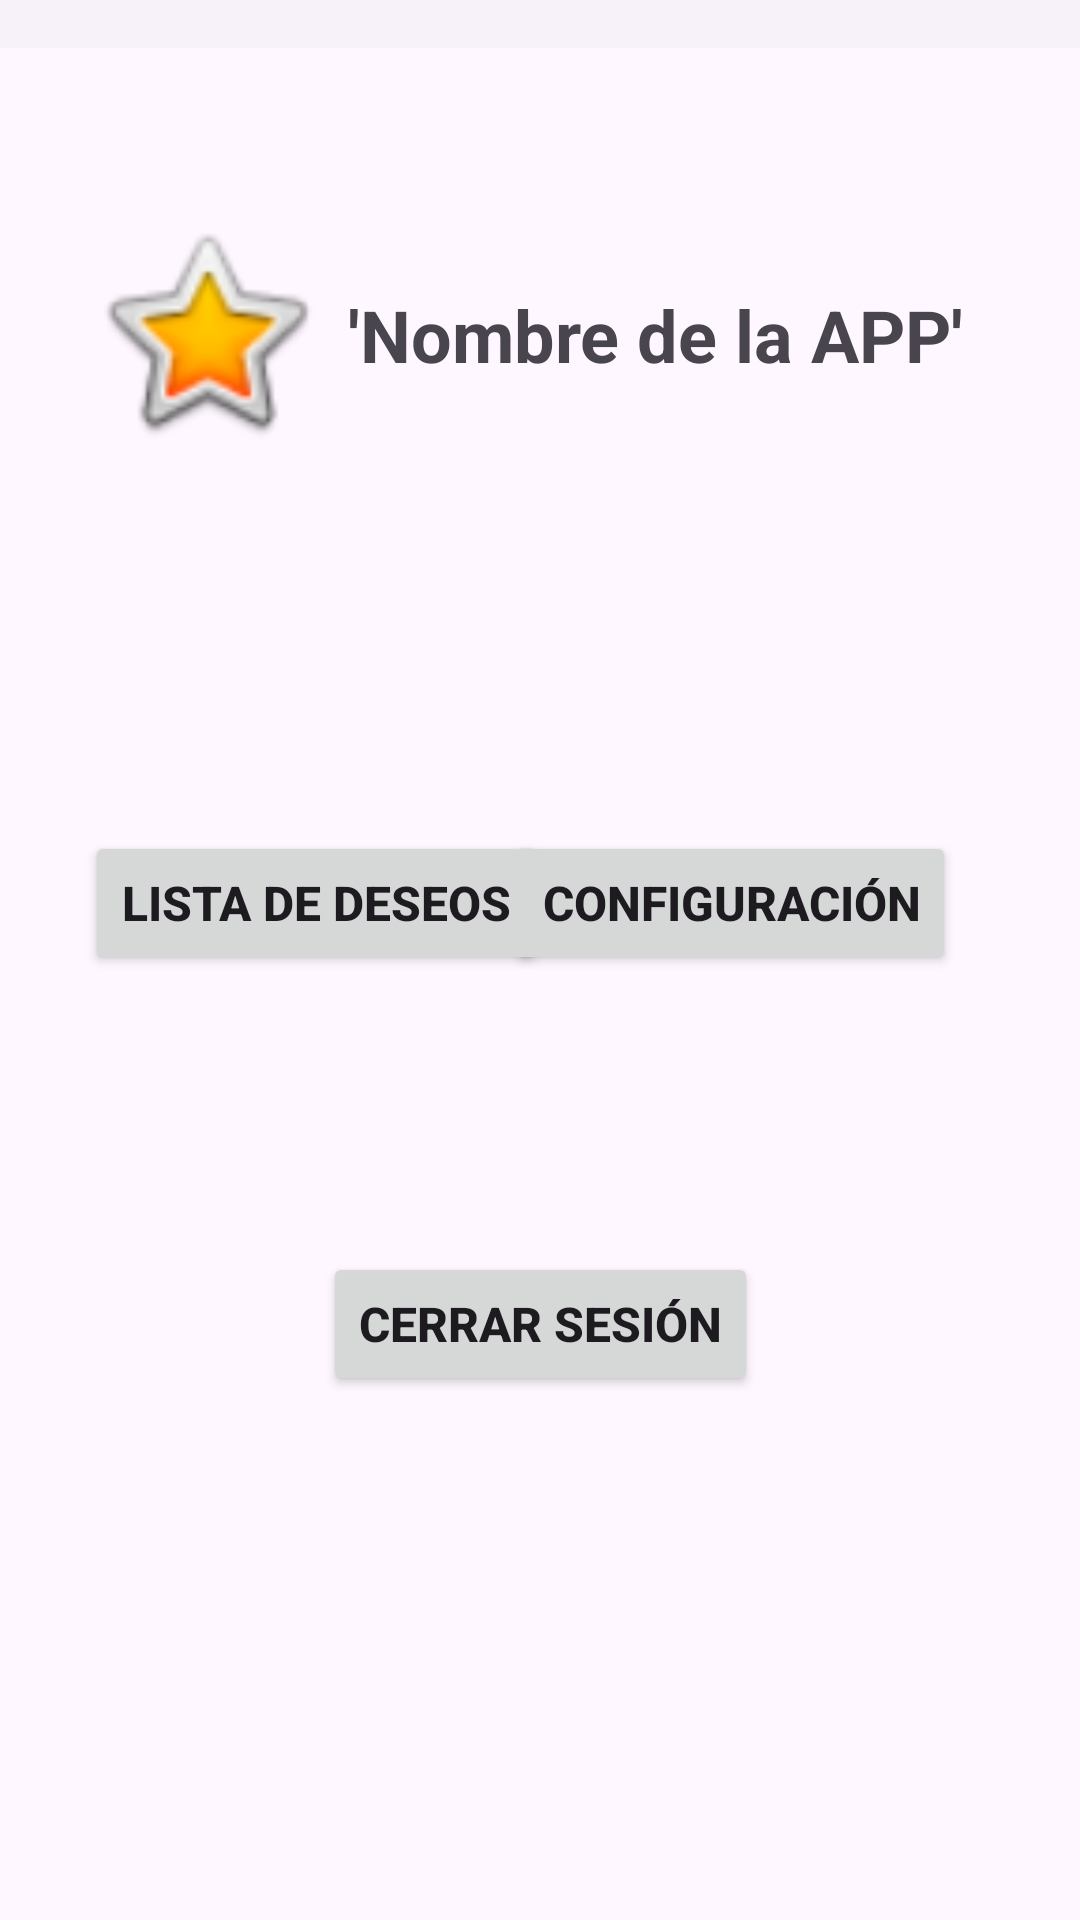

Icons on this 1080×1920 Android screen, each with the point to tap as point (x, y):
star on: point (208, 334)
